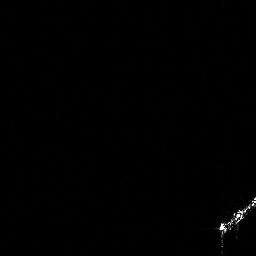ship: (219, 193, 256, 237)
